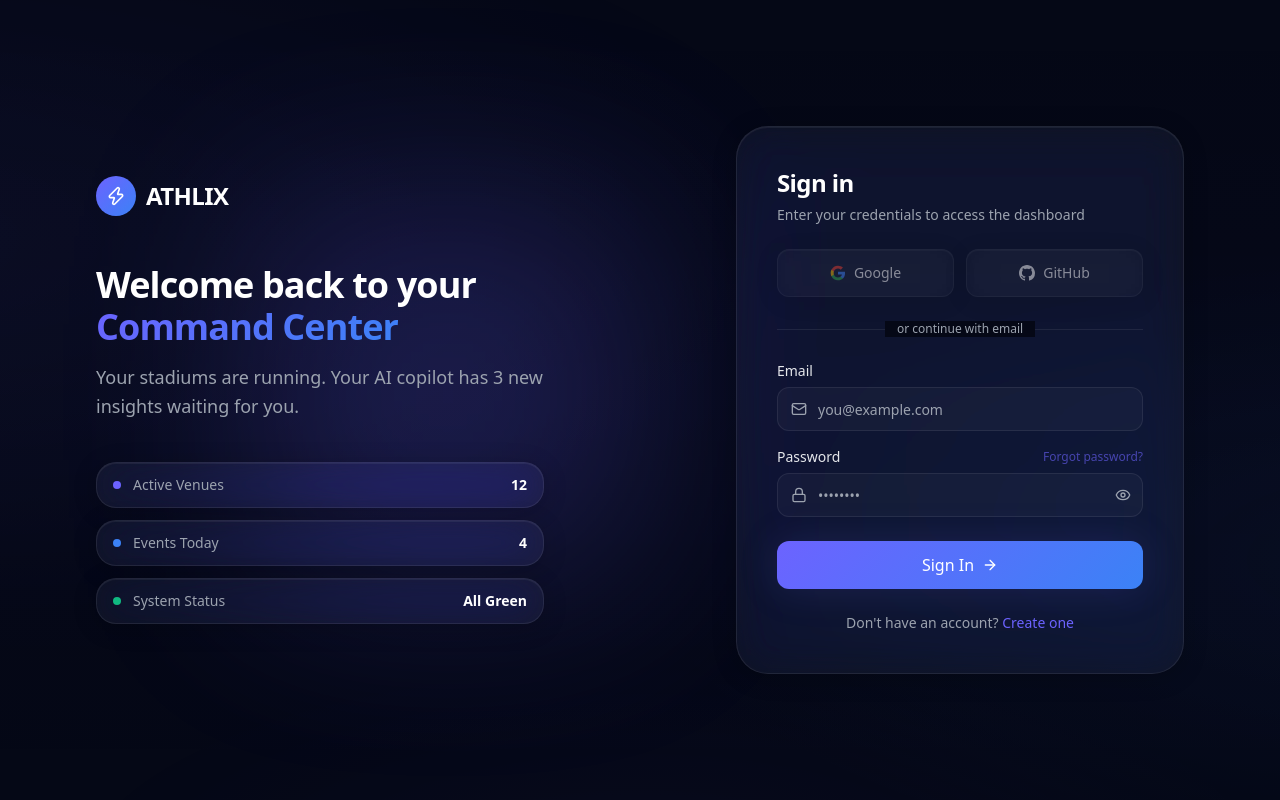
it: LoginPage › toggles password visibility via the show/hide button
This screenshot has width=1280, height=800.
What coordinates should you click on to do the following:
click the button named "Show password"
I would click on:
 (1123, 495)
Its box is [1115, 487, 1131, 503].
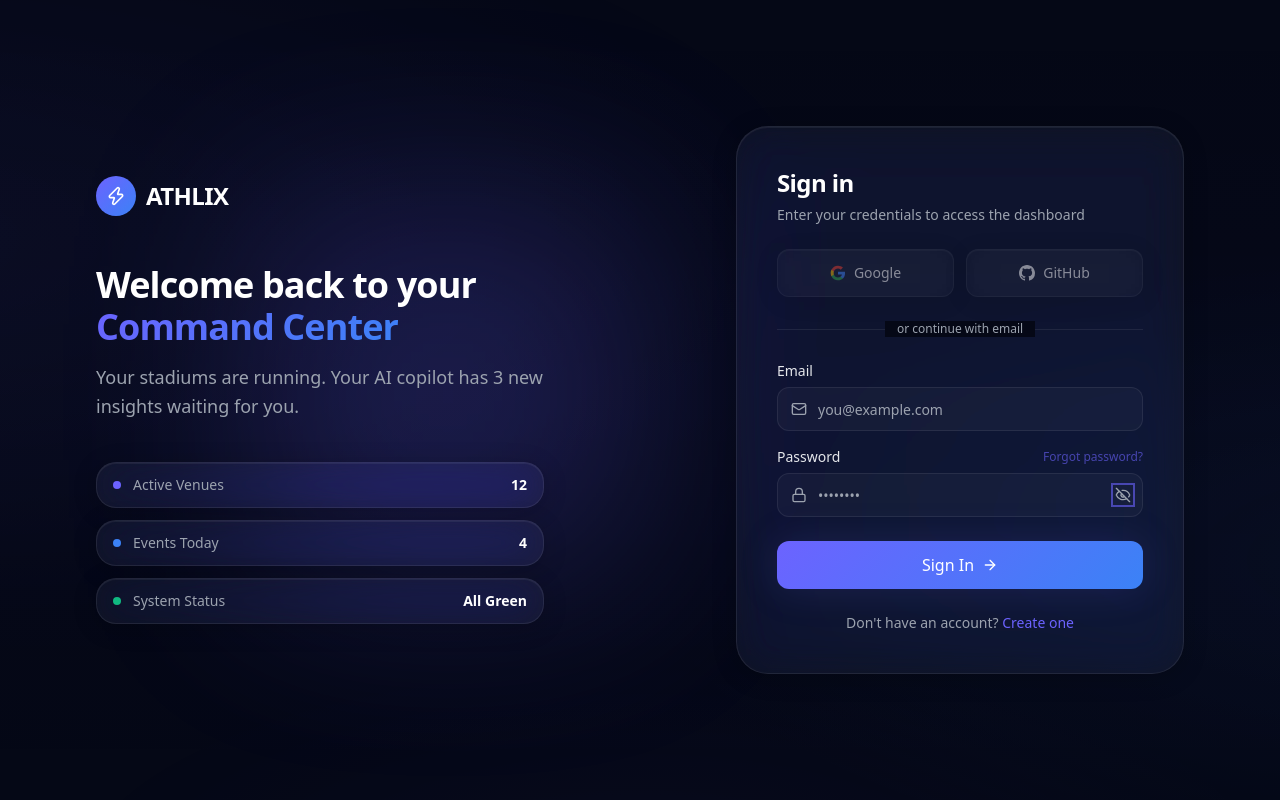
Check: the button named "Hide password" is shown, box [1115, 487, 1131, 503]
